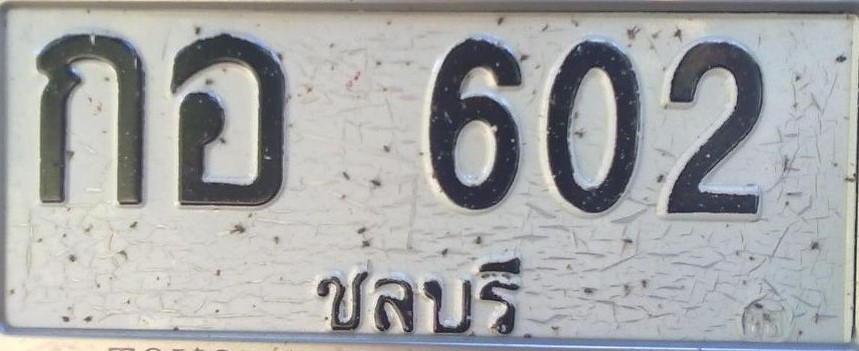txt01: (28, 26, 152, 209)
txt38: (163, 30, 292, 214)
